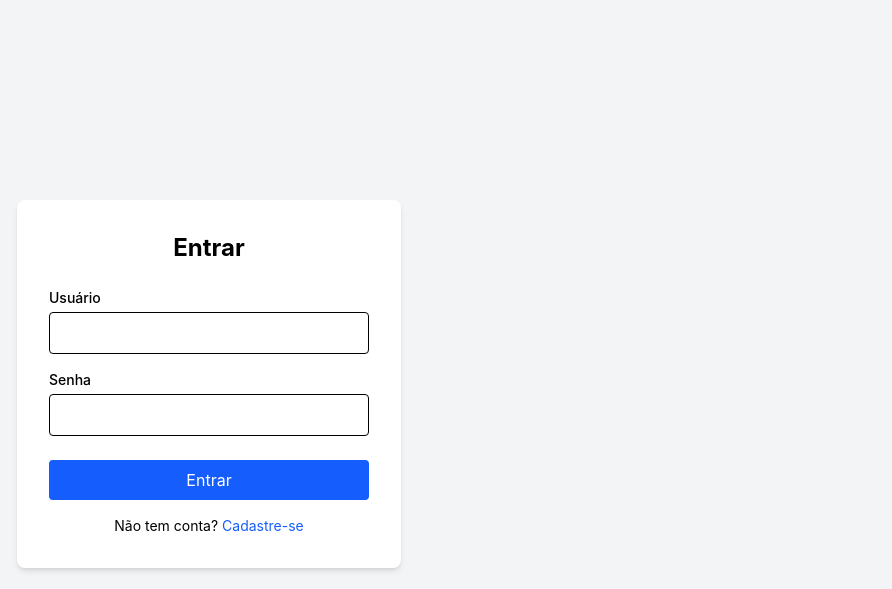
Test: LoginPage › mostra erro claro quando credenciais são inválidas (401)
This screenshot has width=892, height=589.
In the field labelled "Usuário": (209, 333) [49,312,369,354], type "joao"
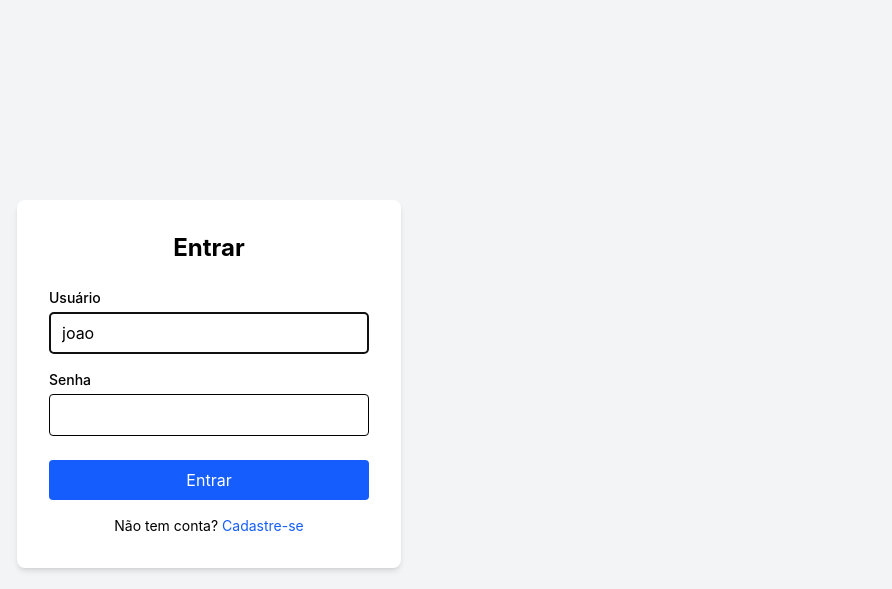
In the password field labelled "Senha": (209, 415) [49,394,369,436], type "senhaerrada"
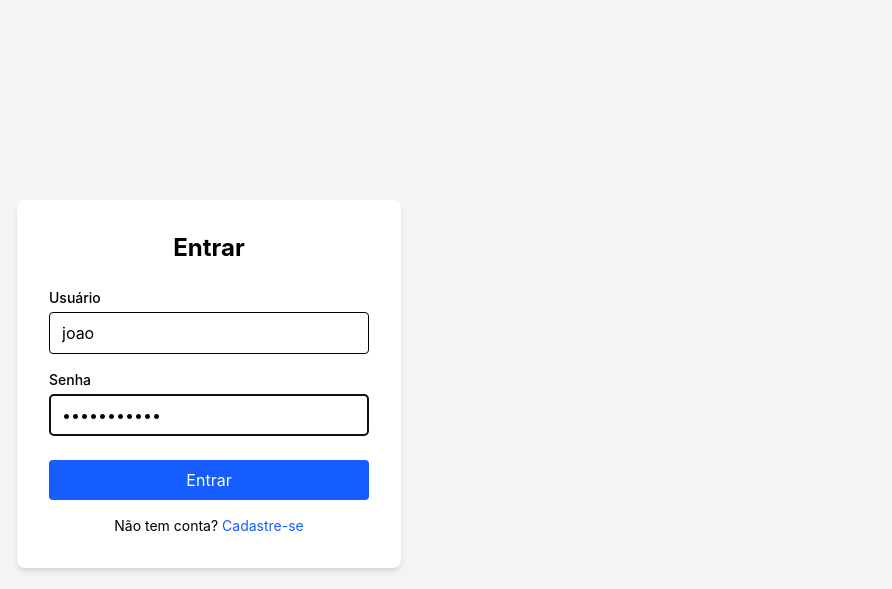
Click the button "Entrar": (209, 480) [49,460,369,500]
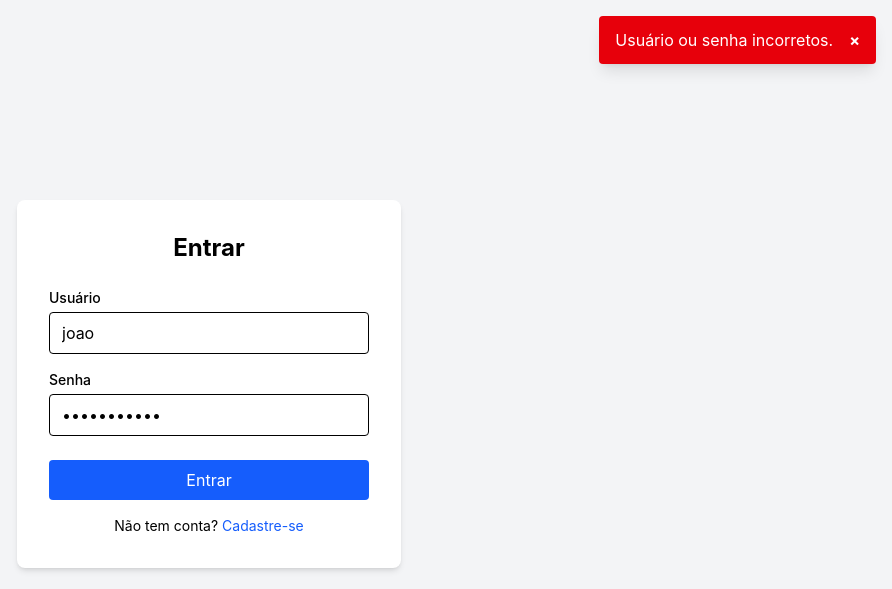
Check: the text "Usuário ou senha incorretos." is shown, box [615,28,833,52]
